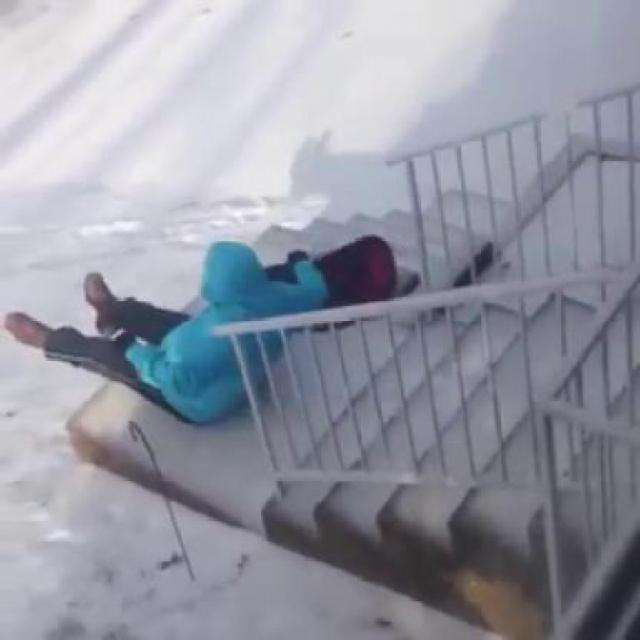fall: (0, 234, 298, 420)
